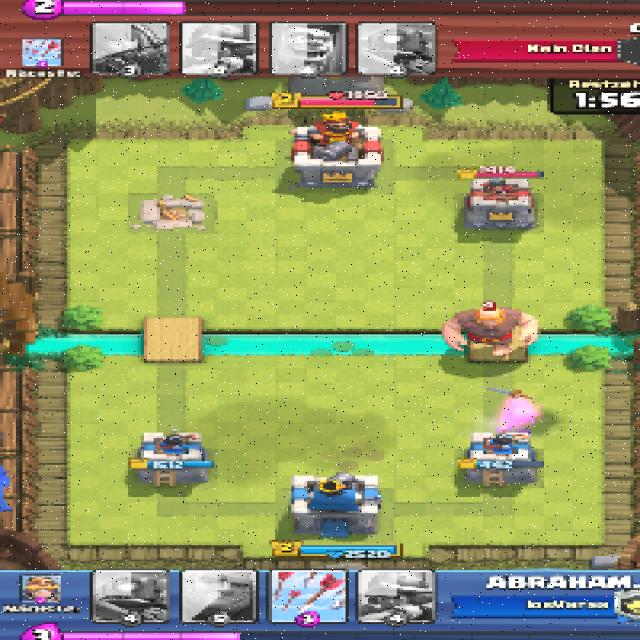Enemy-Giant: (444, 307, 541, 358)
